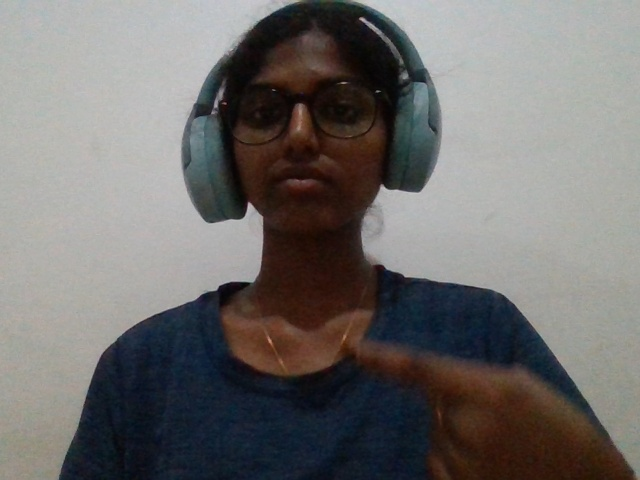Me: (324, 283, 606, 480)
